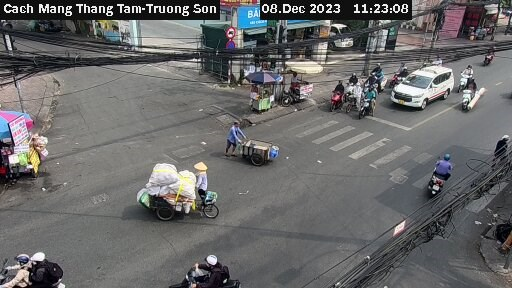car: (391, 63, 454, 109)
motorbike: (2, 250, 72, 288), (176, 257, 242, 288), (359, 91, 384, 128), (460, 83, 485, 118), (422, 164, 451, 194), (343, 84, 364, 115), (367, 67, 389, 94), (478, 45, 498, 72), (326, 83, 345, 111), (458, 66, 474, 94)
